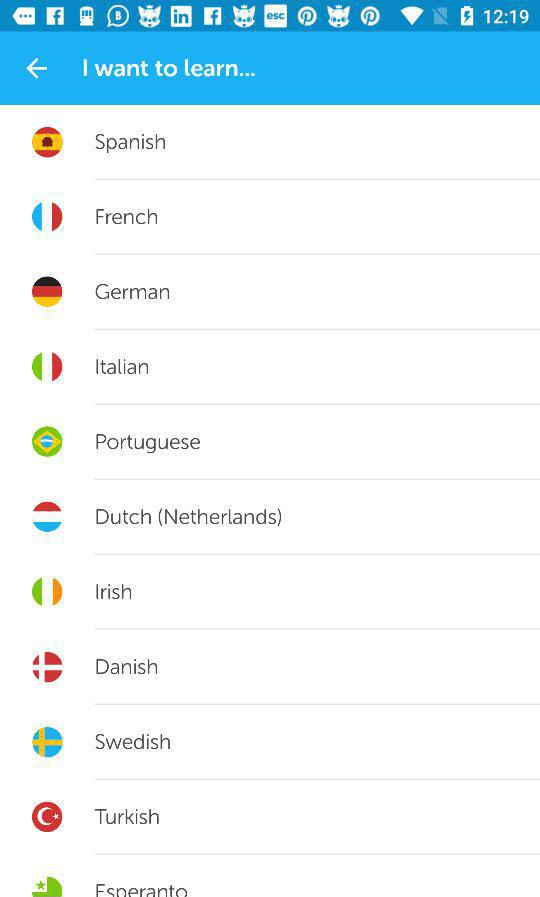Icon: (26, 58, 49, 81)
Image: (33, 726, 65, 758), (32, 651, 64, 683), (32, 576, 64, 608), (32, 501, 64, 533), (32, 351, 64, 383), (32, 201, 64, 233), (32, 127, 64, 159), (33, 801, 64, 833), (32, 426, 63, 458), (32, 277, 63, 308), (32, 876, 64, 897)
Text: (96, 508, 282, 527), (84, 59, 256, 79), (96, 434, 201, 455), (97, 134, 167, 155), (96, 883, 188, 897), (96, 733, 171, 750), (96, 284, 171, 301), (94, 808, 160, 825), (95, 658, 158, 675), (96, 209, 159, 226), (96, 359, 150, 376), (96, 583, 133, 600)
Toolbar: (1, 33, 540, 105)
UpperTaskBar: (1, 1, 540, 33)
